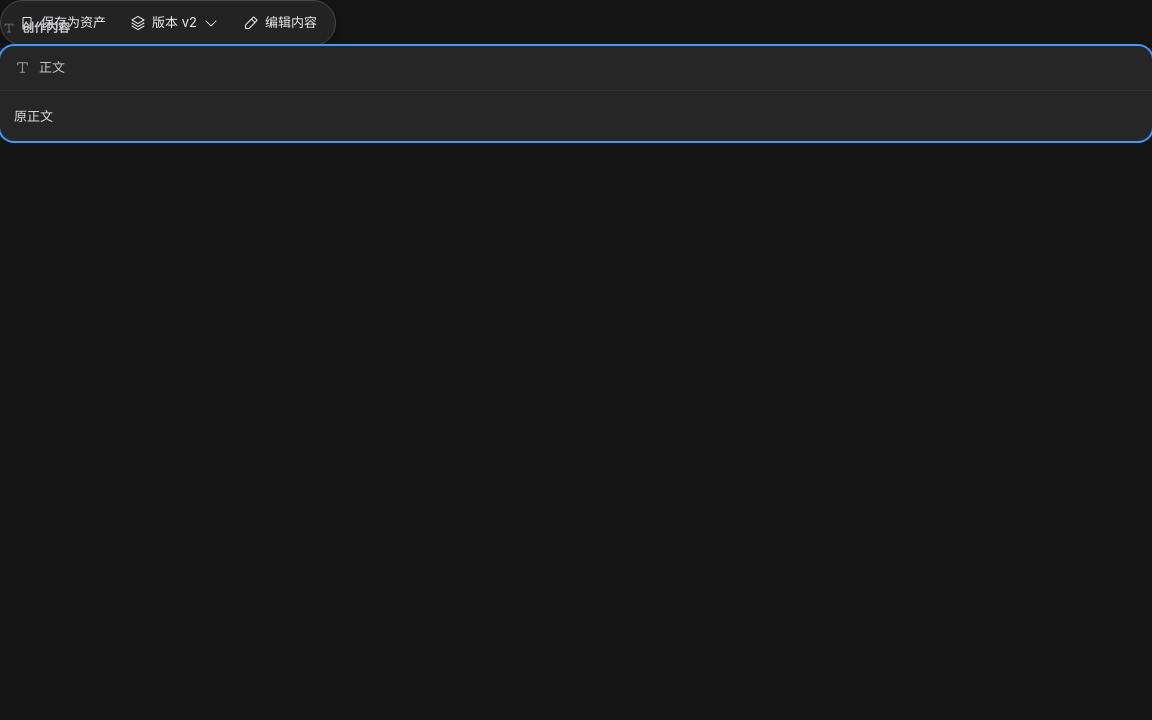
Test: ContentCanvasCard › saves a dirty draft as a new version before exiting
The image size is (1152, 720).
Step 1. Click the button "编辑内容" → (280, 23), box [233,7,327,39]
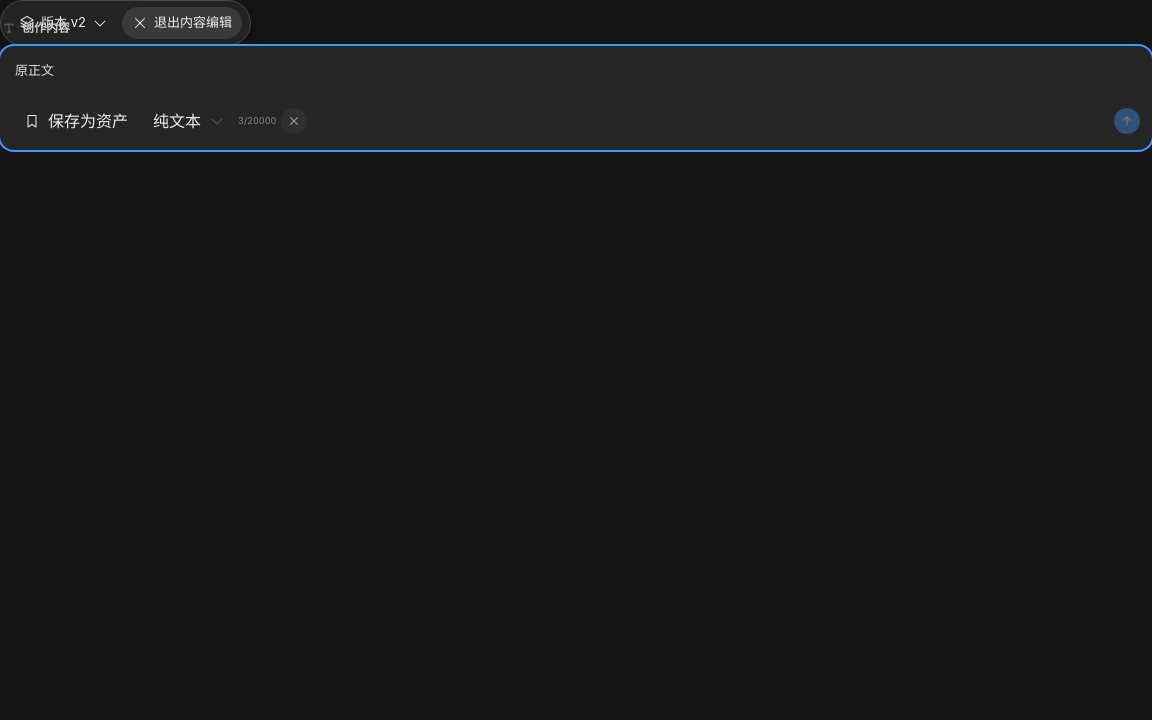
Step 2. Replace the text in the text box named "内容" with "保存后的正文" → (576, 70), box [12,54,1140,87]
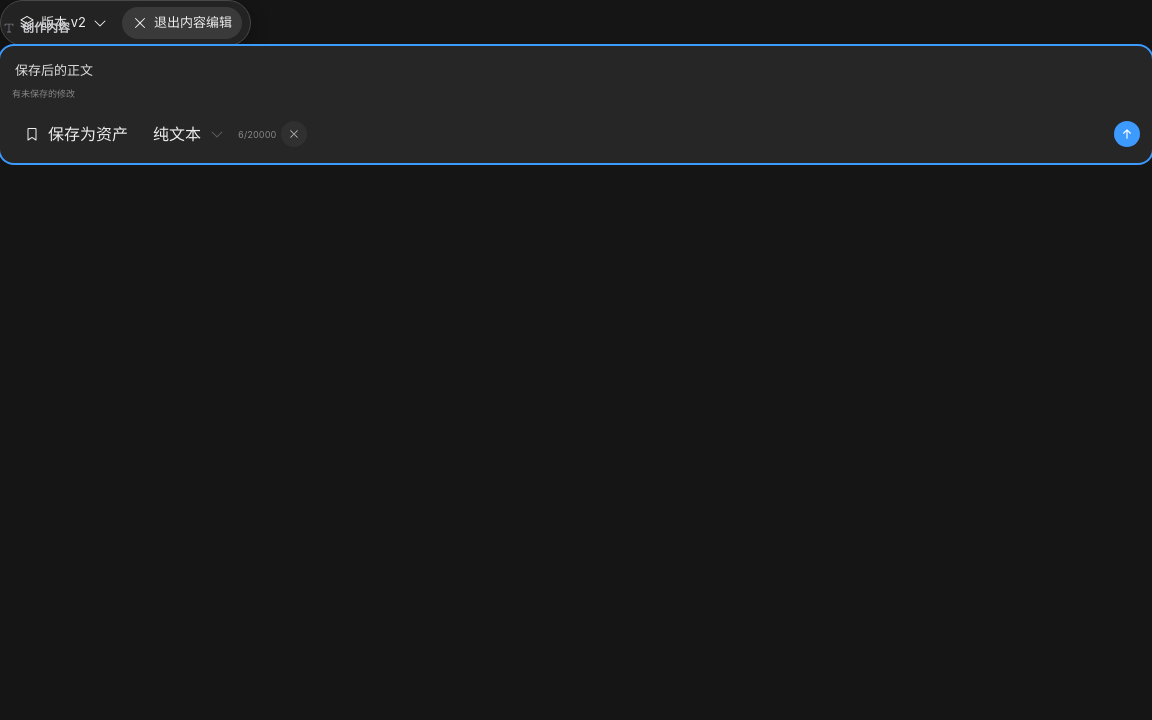
Step 3. Click the button "退出内容编辑" → (182, 23), box [122,7,242,39]
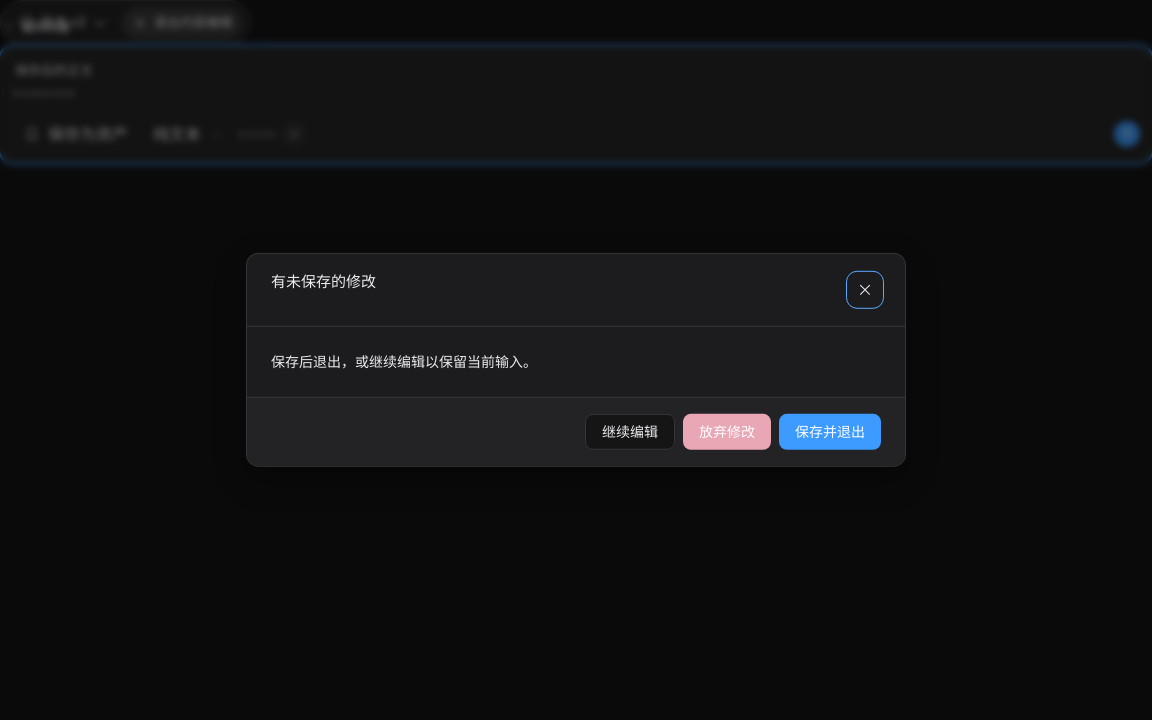
Step 4. Click the button "保存并退出" → (830, 432), box [779,414,881,450]
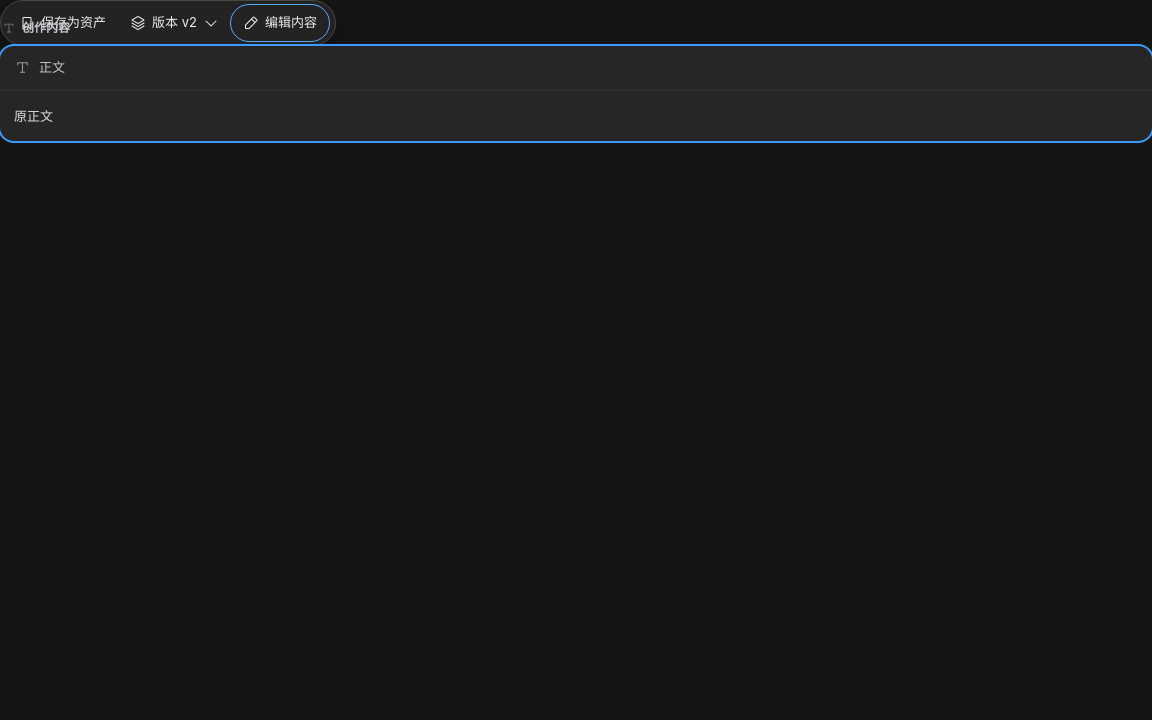
Expected: the dialog is gone
